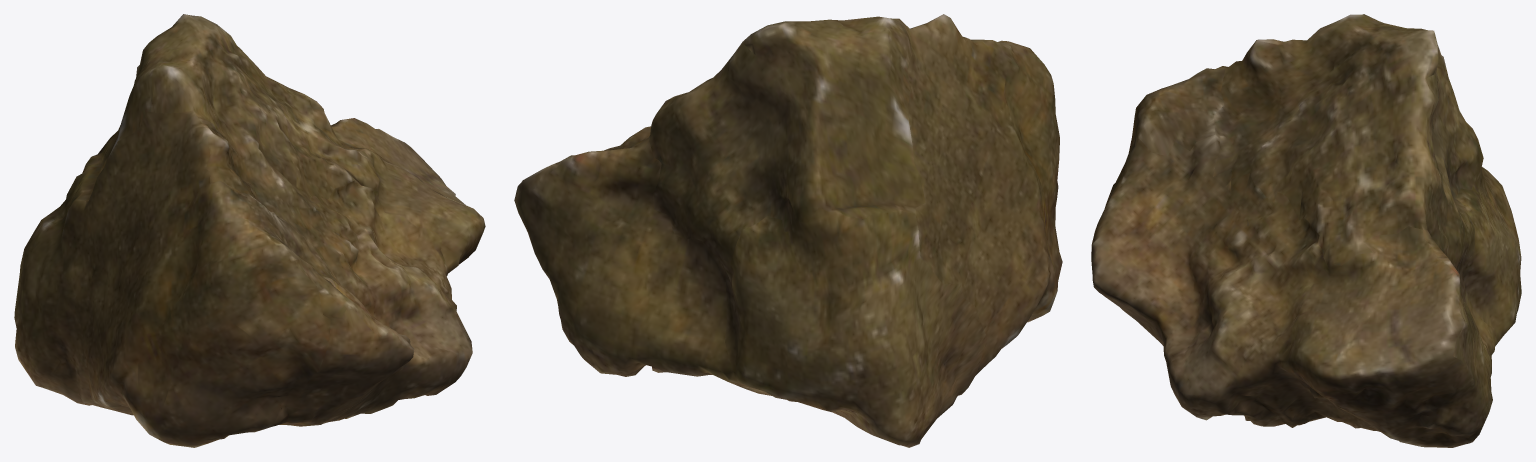
The model's file is Scan_MossRock_D.fbx.
The picture shows the model from 3 angles, left to right: view 1: azimuth 30°, elevation 25°; view 2: azimuth 150°, elevation 25°; view 3: azimuth 270°, elevation 25°; orthographic projection. The views are drawn at different scales.
Visible parts, largest first — view 1: Scan_MossRock_D_LOD0; view 2: Scan_MossRock_D_LOD0; view 3: Scan_MossRock_D_LOD0.
Part boxes in pixels (x1,y1,x2,y2): Scan_MossRock_D_LOD0: (14, 14, 485, 447); Scan_MossRock_D_LOD0: (514, 14, 1062, 447); Scan_MossRock_D_LOD0: (1091, 14, 1521, 447).
Size of what is drawn, in the model's own units: 2.13 by 1.77 by 1.96.
